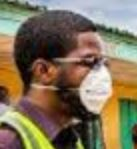with_facemask: (63, 63, 118, 116)
